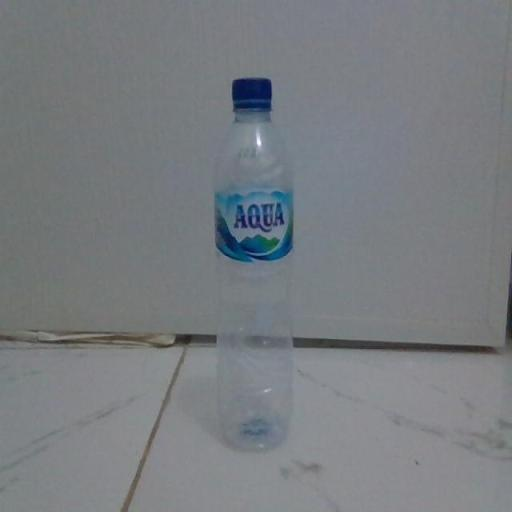bottle: (190, 54, 335, 473)
